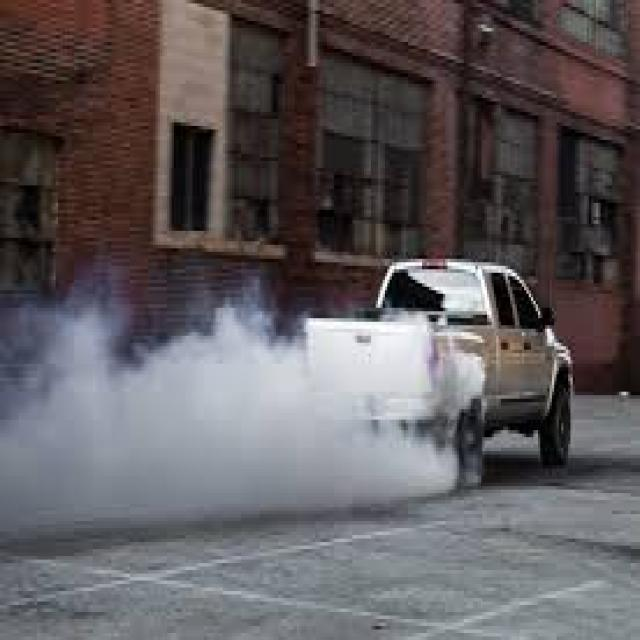Smoke: (11, 324, 432, 508)
